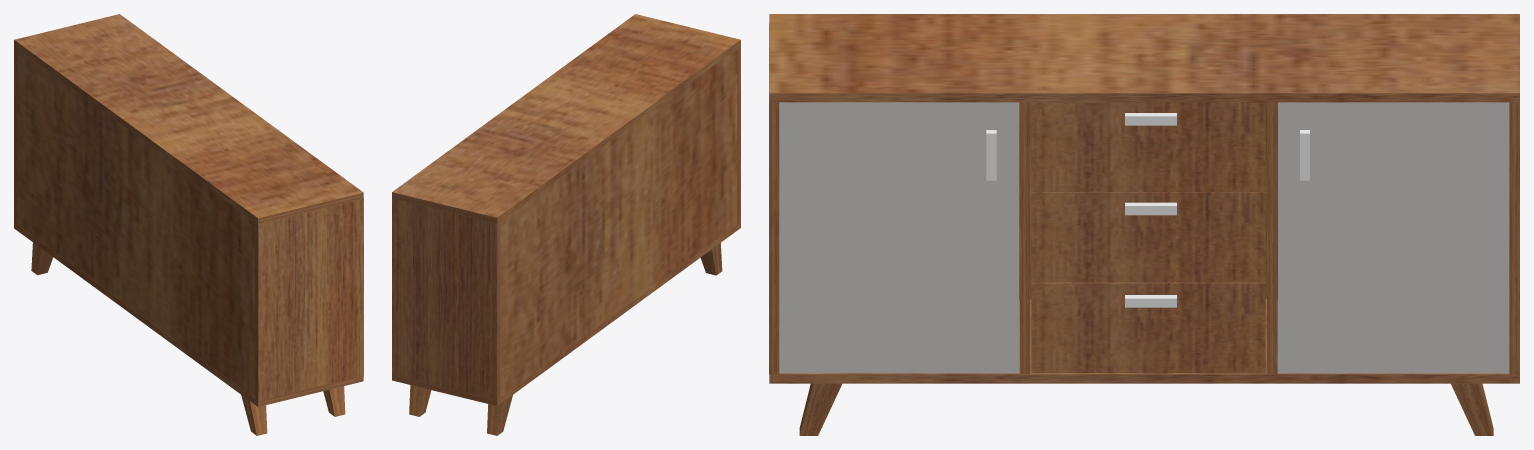
File: dipan.glb
3 views of the same model, side by side, from view 1: azimuth 30°, elevation 25°; view 2: azimuth 150°, elevation 25°; view 3: azimuth 270°, elevation 25° (orthographic). The views are drawn at different scales.
Visible parts, largest first — view 1: Cube.006, Cube.001, Cube.003, Cube, Cube.002, Cube.018, Cube.017, Cube.020; view 2: Cube.006, Cube.001, Cube.002, Cube, Cube.003, Cube.020, Cube.019, Cube.018; view 3: Cube.001, Cube.007, Cube.008, Cube.009, Cube.010, Cube.011, Cube, Cube.003, Cube.002, Cube.004, Cube.005, Cube.017 (+3 smaller).
Boxes of the visible parts, <box> form: Cube.006: <box>17,49,254,397</box>; Cube.001: <box>14,14,363,224</box>; Cube.003: <box>254,198,363,401</box>; Cube: <box>14,222,363,406</box>; Cube.002: <box>14,46,17,224</box>; Cube.018: <box>241,395,267,435</box>; Cube.017: <box>323,386,345,416</box>; Cube.020: <box>31,242,53,275</box>; Cube.006: <box>491,49,737,399</box>; Cube.001: <box>392,14,740,223</box>; Cube.002: <box>392,198,500,399</box>; Cube: <box>392,222,740,405</box>; Cube.003: <box>737,46,740,224</box>; Cube.020: <box>487,395,512,435</box>; Cube.019: <box>409,385,431,416</box>; Cube.018: <box>700,243,722,275</box>; Cube.001: <box>769,14,1519,102</box>; Cube.007: <box>779,102,1019,373</box>; Cube.008: <box>1278,102,1509,373</box>; Cube.009: <box>1031,282,1265,373</box>; Cube.010: <box>1031,192,1265,282</box>; Cube.011: <box>1031,102,1265,191</box>; Cube: <box>769,299,1519,383</box>; Cube.003: <box>769,23,779,374</box>; Cube.002: <box>1509,102,1519,374</box>; Cube.004: <box>1020,102,1030,373</box>; Cube.005: <box>1267,102,1277,373</box>; Cube.017: <box>799,383,841,435</box>.
Size of the model in its own units: 0.8308 by 1.64 by 3.2.
5 materials, 3 textured.
